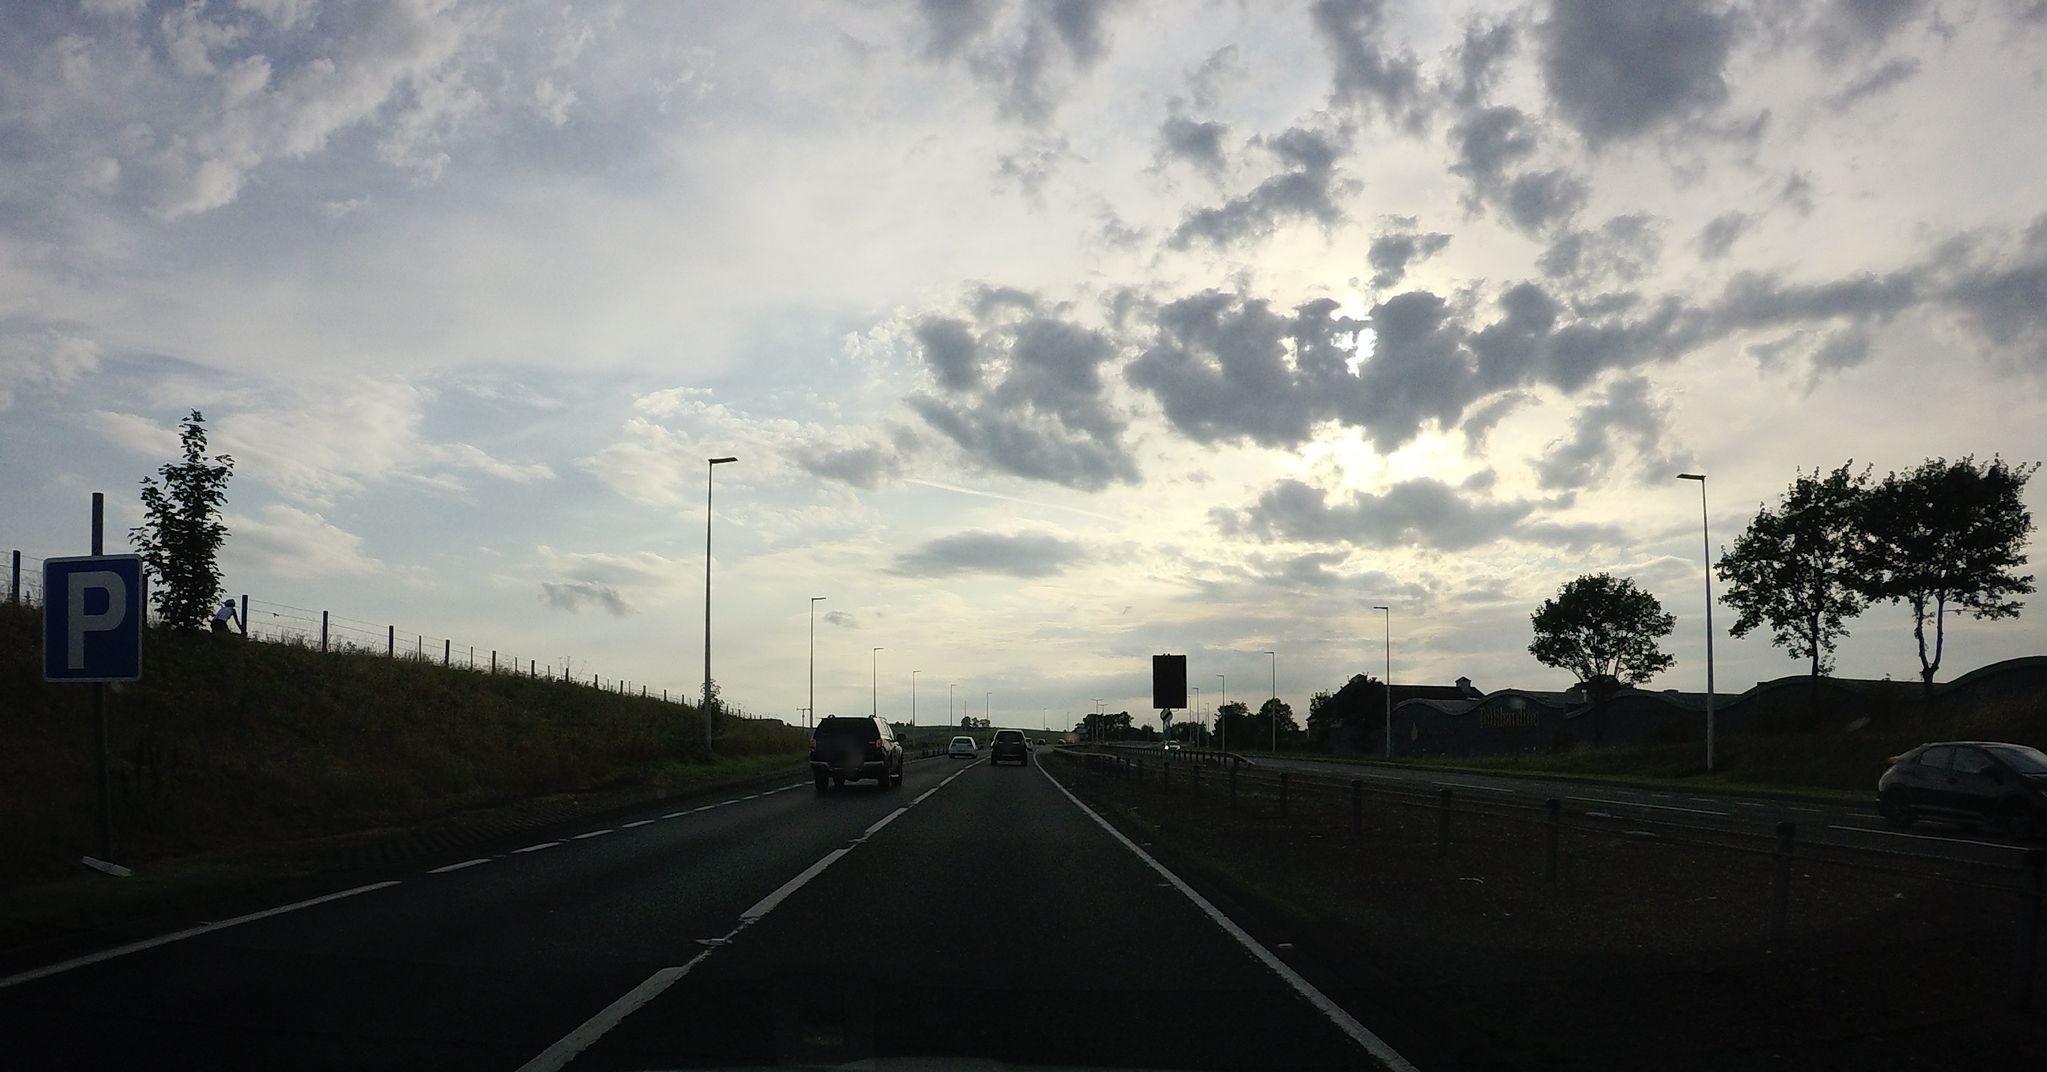car: (1876, 740, 2047, 839), (808, 711, 904, 790), (990, 728, 1028, 765), (946, 735, 977, 758)
